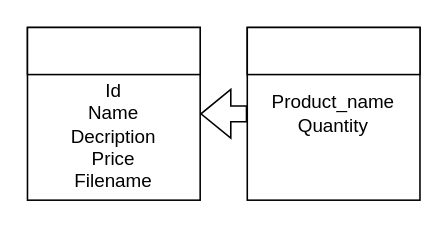
Some shapes in this 447 by 228 pixel diagram are drawn without their labels. The centre of each missing label's shape, as x and y in pixels:
Order: pixel 333 50
Product: pixel 113 50
